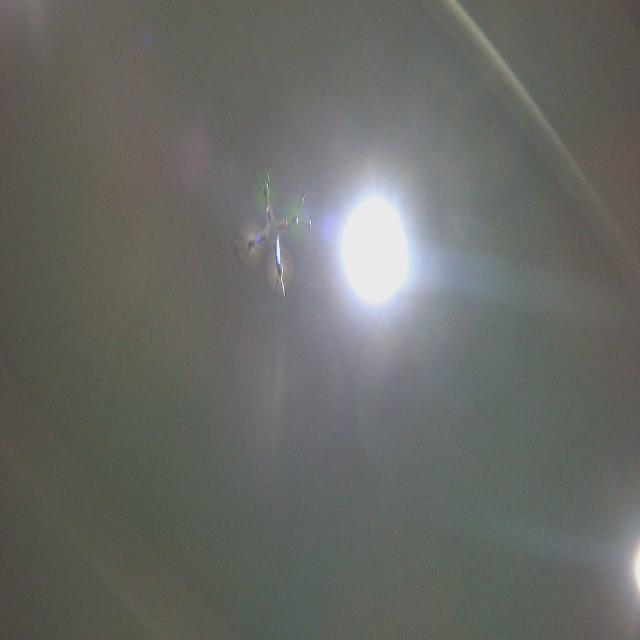drone: (230, 158, 316, 302)
